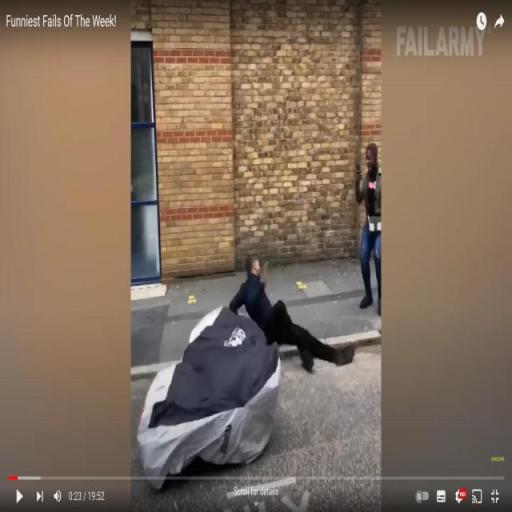Fall: (228, 249, 357, 376)
